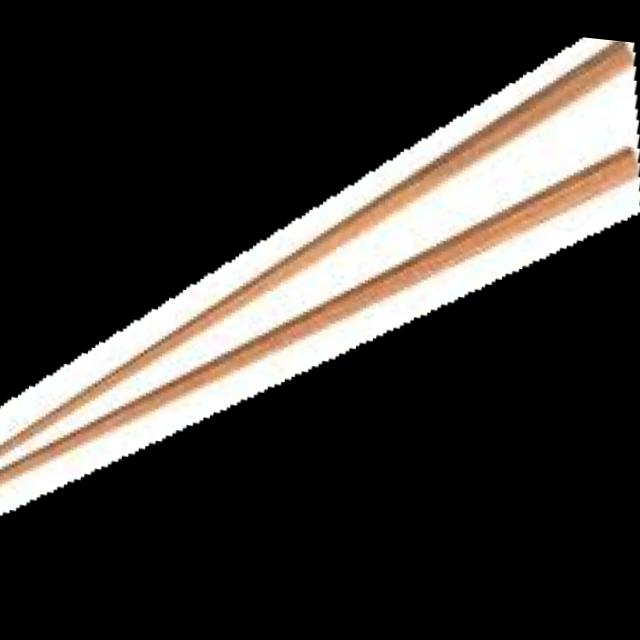others: (0, 37, 640, 532)
